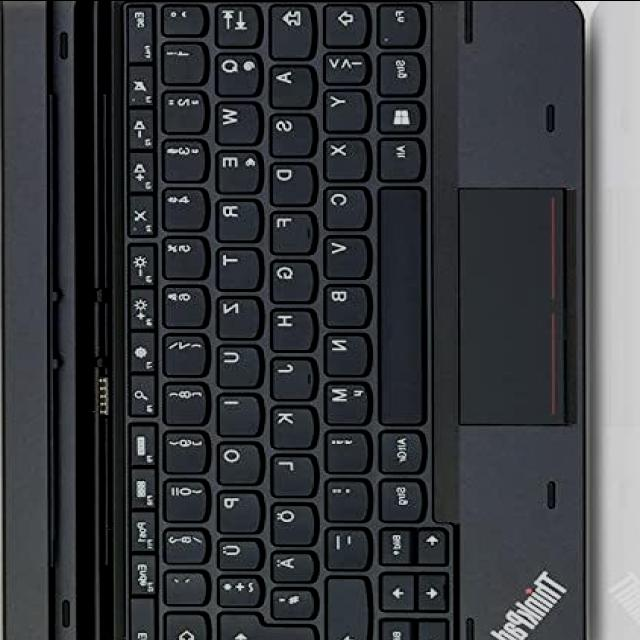0: (161, 476, 208, 520)
1: (159, 38, 205, 82)
2: (159, 87, 206, 131)
3: (159, 135, 206, 180)
4: (161, 186, 205, 228)
5: (161, 233, 207, 277)
6: (161, 282, 207, 326)
7: (163, 331, 207, 375)
8: (161, 380, 207, 422)
9: (161, 427, 207, 471)
a: (267, 62, 313, 106)
accent: (161, 566, 207, 603)
ae: (267, 549, 314, 581)
alt-left: (375, 135, 425, 181)
altgr-right: (375, 427, 423, 472)
b: (322, 281, 369, 326)
c: (323, 185, 369, 229)
caret: (158, 1, 205, 33)
comma: (322, 427, 368, 471)
d: (267, 159, 314, 203)
del: (160, 608, 208, 640)
e: (214, 149, 260, 191)
enter: (216, 611, 316, 640)
f: (267, 209, 314, 251)
g: (267, 255, 314, 300)
h: (267, 306, 314, 350)
hash: (267, 585, 317, 618)
i: (214, 390, 260, 434)
j: (267, 354, 313, 398)
k: (267, 404, 314, 446)
keyboard: (120, 0, 455, 640)
l: (267, 451, 314, 495)
less: (320, 49, 367, 82)
m: (323, 378, 369, 423)
minus: (322, 524, 369, 569)
n: (322, 329, 368, 373)
o: (214, 438, 261, 482)
oe: (267, 500, 315, 544)
p: (216, 488, 263, 533)
plus: (214, 573, 260, 605)
point: (322, 476, 369, 520)
q: (213, 49, 260, 93)
r: (214, 196, 260, 240)
s: (267, 110, 313, 155)
shift-left: (320, 0, 367, 45)
shift-lock: (267, 0, 313, 57)
shift-right: (322, 574, 370, 640)
space: (376, 184, 423, 424)
ss: (161, 525, 207, 561)
strg-left: (375, 49, 422, 94)
strg-right: (375, 475, 423, 520)
t: (214, 245, 260, 289)
tab: (213, 0, 260, 45)
u: (214, 341, 261, 385)
ue: (214, 536, 260, 568)
v: (320, 233, 367, 277)
w: (213, 98, 260, 142)
x: (320, 135, 372, 180)
y: (320, 86, 367, 130)
z: (214, 294, 260, 338)
